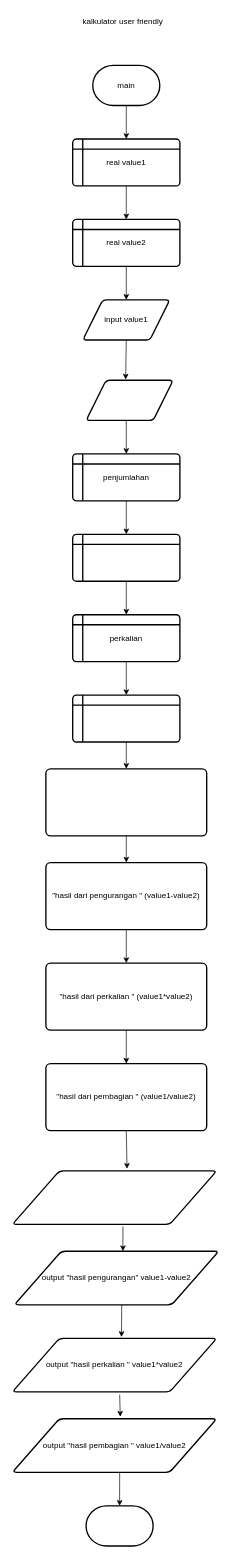
This 230x1558 diagram has some shape labels left out. Here are the shapes that lost their labels. From the top down, the centre of each, then its label:
point 129,400: input value2
point 126,557: pengurangan
point 126,718: pembagian
point 126,802: "hasil dari penjumlahan " (value1+value2)
point 114,1197: output "hasil penjumlahan " value1+value2
point 119,1525: end
